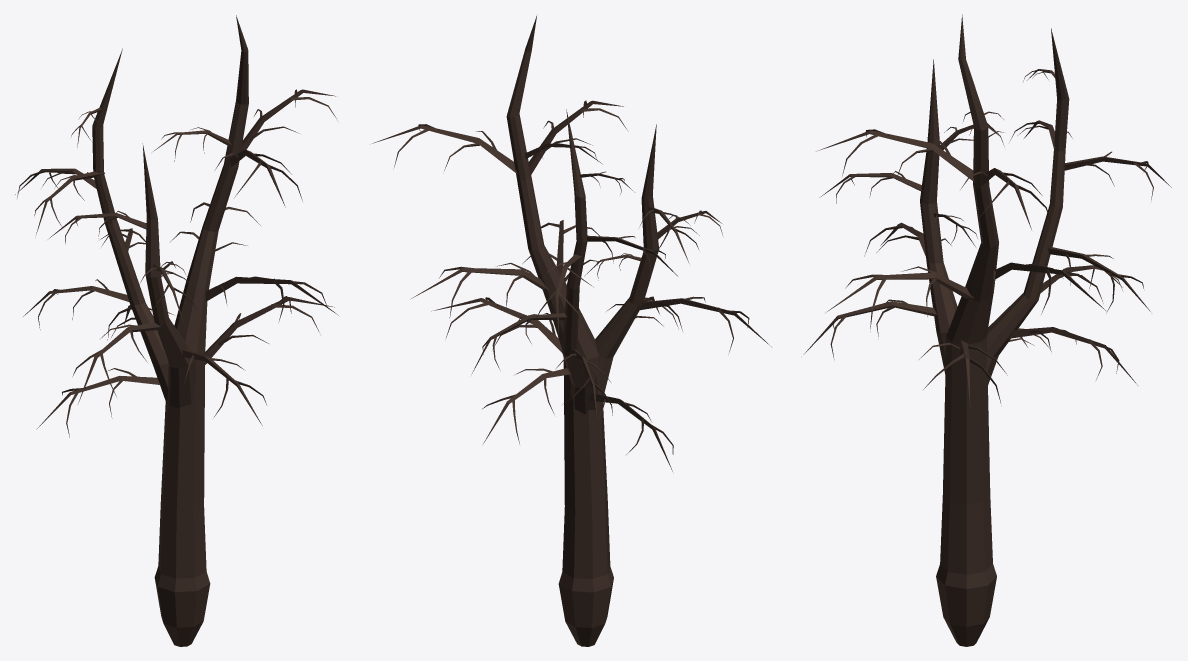
The model's file is Tree_2.glb.
3 renders of one model, left to right at view 1: azimuth 30°, elevation 25°; view 2: azimuth 150°, elevation 25°; view 3: azimuth 270°, elevation 25°, orthographic. The views are drawn at different scales.
Visible parts, largest first — view 1: Cylinder.001; view 2: Cylinder.001; view 3: Cylinder.001.
Part boxes in pixels (x1,y1,x2,y2): Cylinder.001: (15, 15, 338, 646); Cylinder.001: (372, 16, 771, 646); Cylinder.001: (803, 14, 1171, 646).
Bounding box in the file's own units: 4.54 × 8.04 × 4.14.
